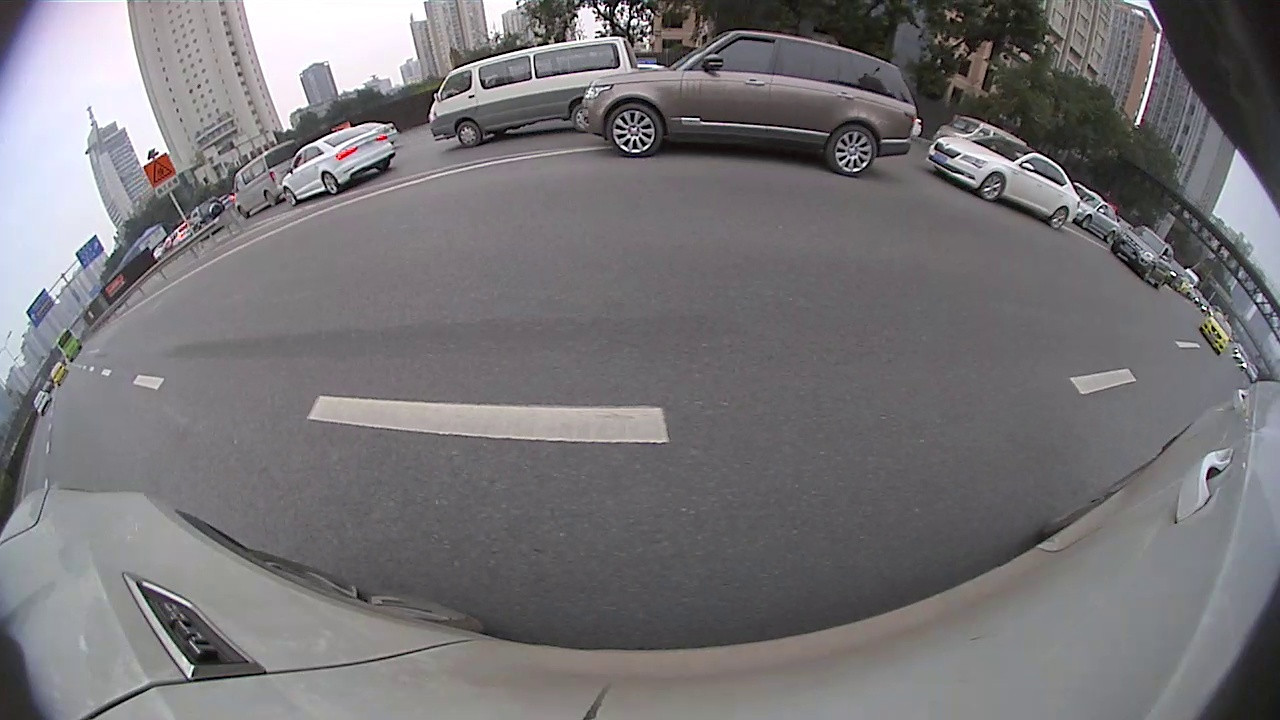car: (580, 30, 918, 178), (428, 35, 647, 149), (923, 136, 1082, 232), (280, 128, 397, 210), (231, 141, 313, 222), (1113, 222, 1174, 292), (1056, 181, 1120, 241), (1199, 310, 1234, 356)
front: (608, 103, 664, 158), (456, 122, 481, 148), (980, 173, 1005, 199), (284, 188, 297, 204), (238, 204, 249, 219)
rear: (826, 123, 876, 174), (571, 105, 596, 130), (1050, 208, 1068, 228), (322, 174, 339, 194), (264, 191, 276, 204)
